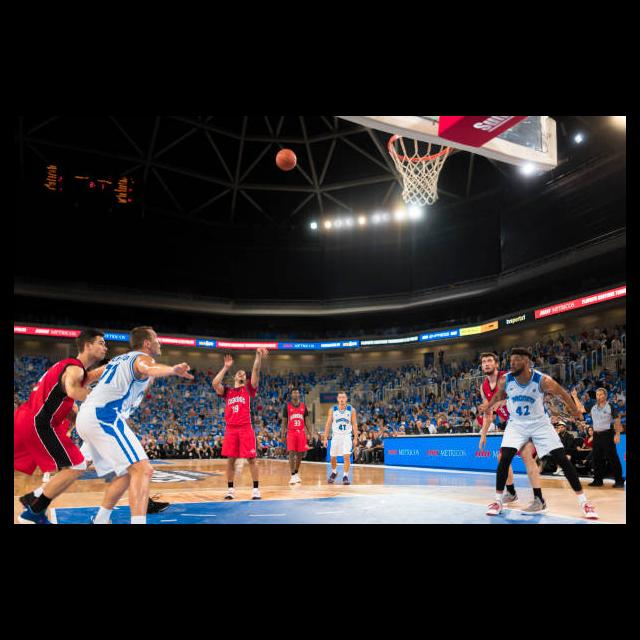basketball: (274, 147, 296, 170)
hoop: (387, 134, 450, 206)
